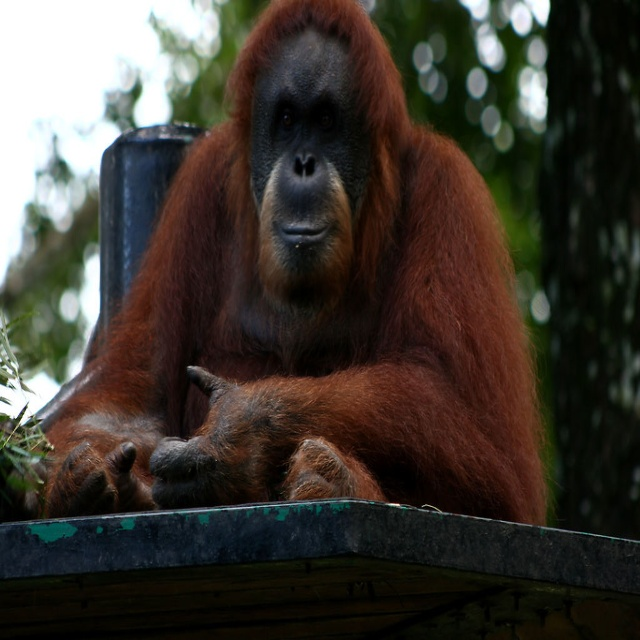Monkey: (52, 4, 586, 542)
